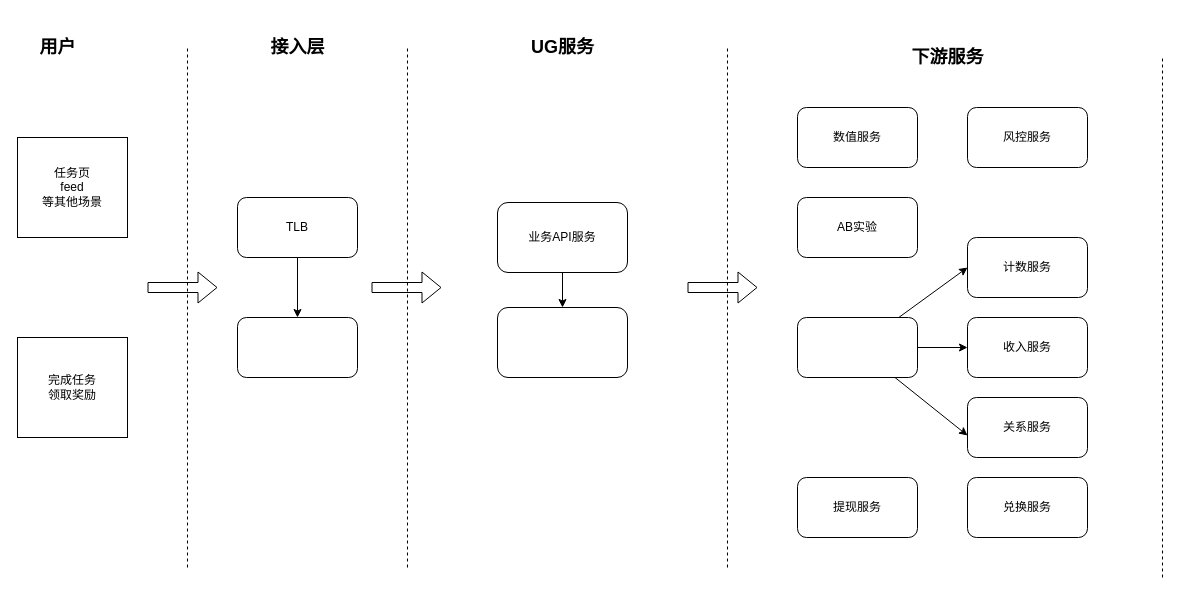
Image size: 1181x596. Some labels were removed from this diagram. Here are the shapes that lost their labels. From the top down, the centre of each, then its label:
pixel 297 347: AGW
pixel 562 342: 业务RPC服务
pixel 857 347: engine
